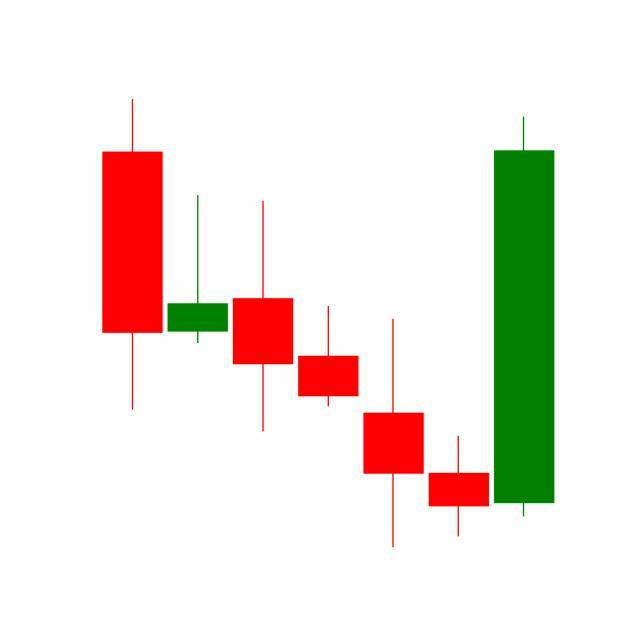Hikkake Pattern: (229, 112, 555, 549)
